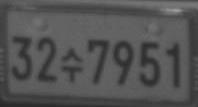1: (165, 43, 186, 86)
2: (37, 36, 56, 83)
3: (11, 36, 32, 79)
5: (139, 42, 161, 86)
7: (87, 38, 109, 84)
9: (112, 40, 134, 84)
수: (59, 46, 83, 83)
